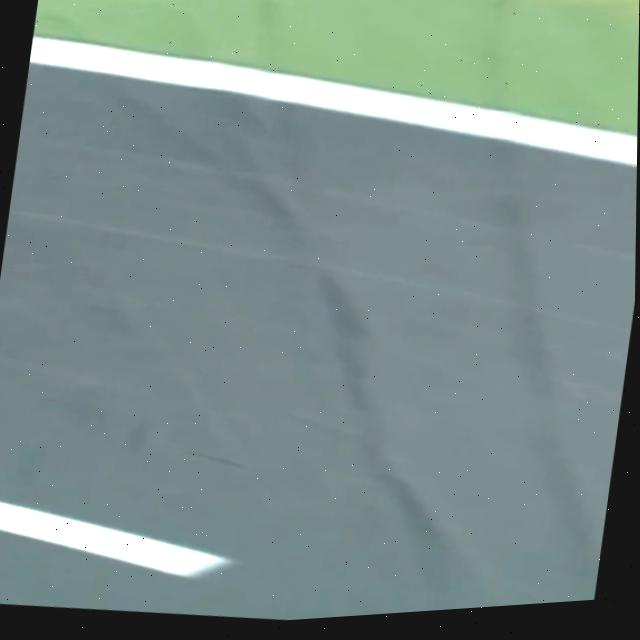center: (0, 502, 231, 577)
right: (28, 36, 637, 167)
